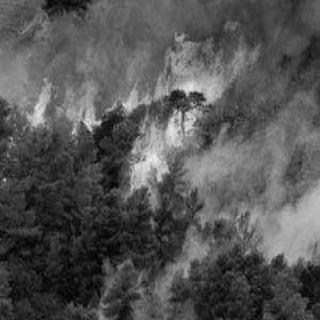Fire: (110, 13, 260, 199), (3, 64, 106, 168)
